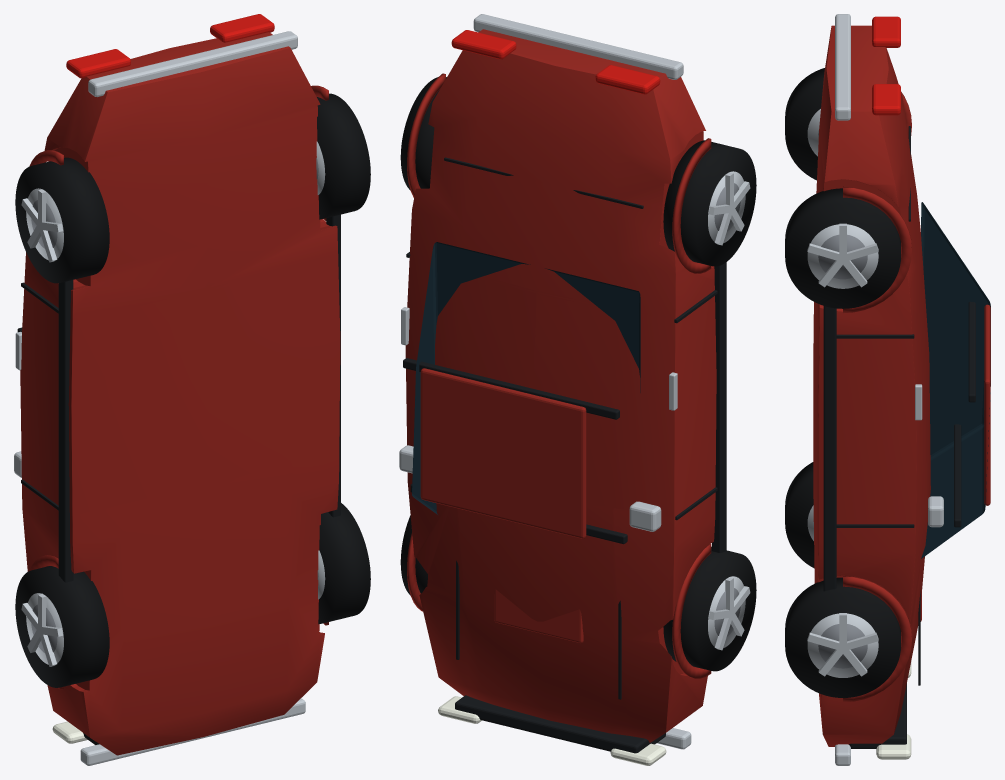
Rendered from HeroCrownfire.fbx.
The picture shows the model from 3 angles, left to right: view 1: azimuth 30°, elevation 25°; view 2: azimuth 150°, elevation 25°; view 3: azimuth 270°, elevation 25°; orthographic projection. The views are drawn at different scales.
Parts seen in each view (by area): view 1: Crownfire_BODY_SHELL, Crownfire_TIRE.001, Crownfire_TIRE, Crownfire_TIRE.003, Crownfire_TIRE.002, Crownfire_ROCKER, Crownfire_REAR_BUMPER, Crownfire_FRONT_BUMPER, Crownfire_TAIL_LAMP, Crownfire_TAIL_LAMP.001, Crownfire_ROCKER.001, Crownfire_RIM.001 (+1 smaller); view 2: Crownfire_BODY_SHELL, Crownfire_ROOF_PANEL, Crownfire_GLASSHOUSE, Crownfire_TIRE.001, Crownfire_TIRE, Crownfire_ROCKER, Crownfire_FRONT_GRILLE, Crownfire_REAR_BUMPER, Crownfire_HOOD_BULGE, Crownfire_TIRE.003, Crownfire_PILLAR.001, Crownfire_WHEEL_ARCH.001 (+9 smaller); view 3: Crownfire_BODY_SHELL, Crownfire_GLASSHOUSE, Crownfire_TIRE.003, Crownfire_TIRE.002, Crownfire_ROCKER.001, Crownfire_TIRE.001, Crownfire_TIRE, Crownfire_WHEEL_ARCH.002, Crownfire_WHEEL_ARCH.003, Crownfire_REAR_BUMPER, Crownfire_RIM.002, Crownfire_RIM.003 (+12 smaller).
Boxes of the visible parts, left/top/right/bottom form: Crownfire_BODY_SHELL: left=20, top=32, right=340, bottom=755; Crownfire_TIRE.001: left=15, top=157, right=109, bottom=283; Crownfire_TIRE: left=15, top=566, right=109, bottom=687; Crownfire_TIRE.003: left=317, top=93, right=370, bottom=219; Crownfire_TIRE.002: left=318, top=503, right=370, bottom=624; Crownfire_ROCKER: left=58, top=280, right=73, bottom=582; Crownfire_REAR_BUMPER: left=88, top=31, right=297, bottom=97; Crownfire_FRONT_BUMPER: left=80, top=698, right=305, bottom=765; Crownfire_TAIL_LAMP: left=66, top=49, right=130, bottom=78; Crownfire_TAIL_LAMP.001: left=210, top=14, right=274, bottom=42; Crownfire_ROCKER.001: left=326, top=214, right=340, bottom=517; Crownfire_RIM.001: left=26, top=188, right=63, bottom=260; Crownfire_BODY_SHELL: left=405, top=29, right=716, bottom=742; Crownfire_ROOF_PANEL: left=420, top=368, right=586, bottom=538; Crownfire_GLASSHOUSE: left=412, top=242, right=640, bottom=514; Crownfire_TIRE.001: left=663, top=140, right=756, bottom=266; Crownfire_TIRE: left=663, top=546, right=756, bottom=671; Crownfire_ROCKER: left=712, top=262, right=726, bottom=552; Crownfire_FRONT_GRILLE: left=455, top=695, right=665, bottom=753; Crownfire_REAR_BUMPER: left=473, top=14, right=683, bottom=79; Crownfire_HOOD_BULGE: left=494, top=589, right=583, bottom=643; Crownfire_TIRE.003: left=400, top=77, right=446, bottom=190; Crownfire_PILLAR.001: left=403, top=358, right=619, bottom=419; Crownfire_WHEEL_ARCH.001: left=672, top=138, right=711, bottom=273; Crownfire_BODY_SHELL: left=813, top=25, right=930, bottom=746; Crownfire_GLASSHOUSE: left=921, top=202, right=990, bottom=558; Crownfire_TIRE.003: left=785, top=188, right=900, bottom=308; Crownfire_TIRE.002: left=785, top=577, right=900, bottom=697; Crownfire_ROCKER.001: left=823, top=306, right=836, bottom=591; Crownfire_TIRE.001: left=785, top=68, right=824, bottom=180; Crownfire_TIRE: left=785, top=462, right=814, bottom=568; Crownfire_WHEEL_ARCH.002: left=843, top=576, right=911, bottom=702; Crownfire_WHEEL_ARCH.003: left=843, top=186, right=911, bottom=313; Crownfire_REAR_BUMPER: left=835, top=14, right=850, bottom=120; Crownfire_RIM.002: left=807, top=613, right=878, bottom=677; Crownfire_RIM.003: left=807, top=224, right=878, bottom=288.
Size of the model in its own units: 235 by 498 by 142.
